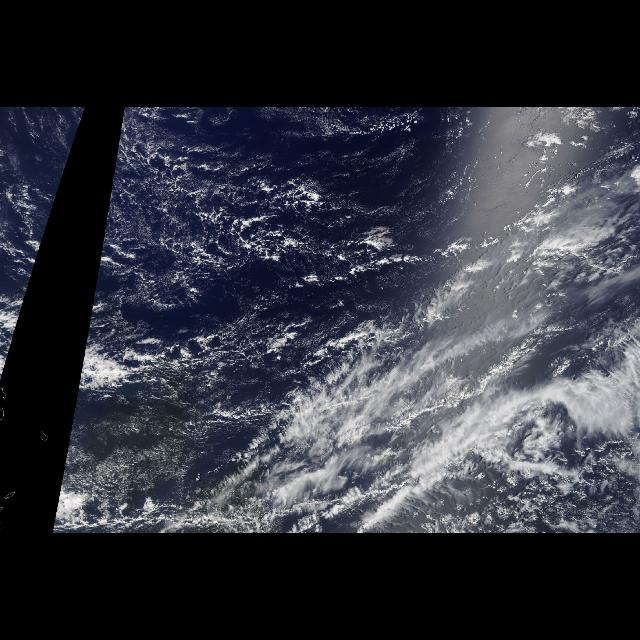Gravel: (124, 116, 396, 294)
Sugar: (125, 125, 327, 287)
